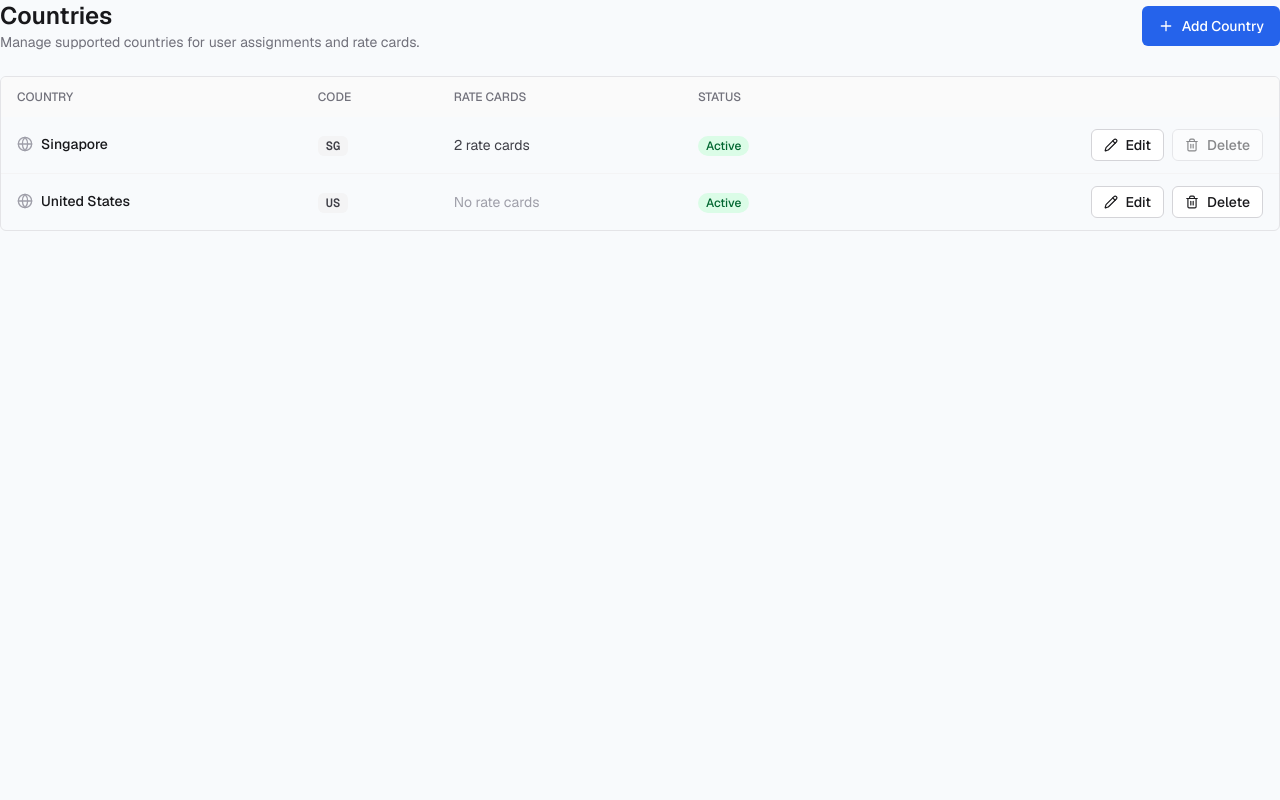
Scenario: CountriesTable › opens the Edit modal pre-filled for the clicked row
Check: the text "Singapore" is shown, box [17,134,108,154]
Click the button "Edit" in the row of "United States".
click(1127, 202)  # box [1091,186,1164,218]
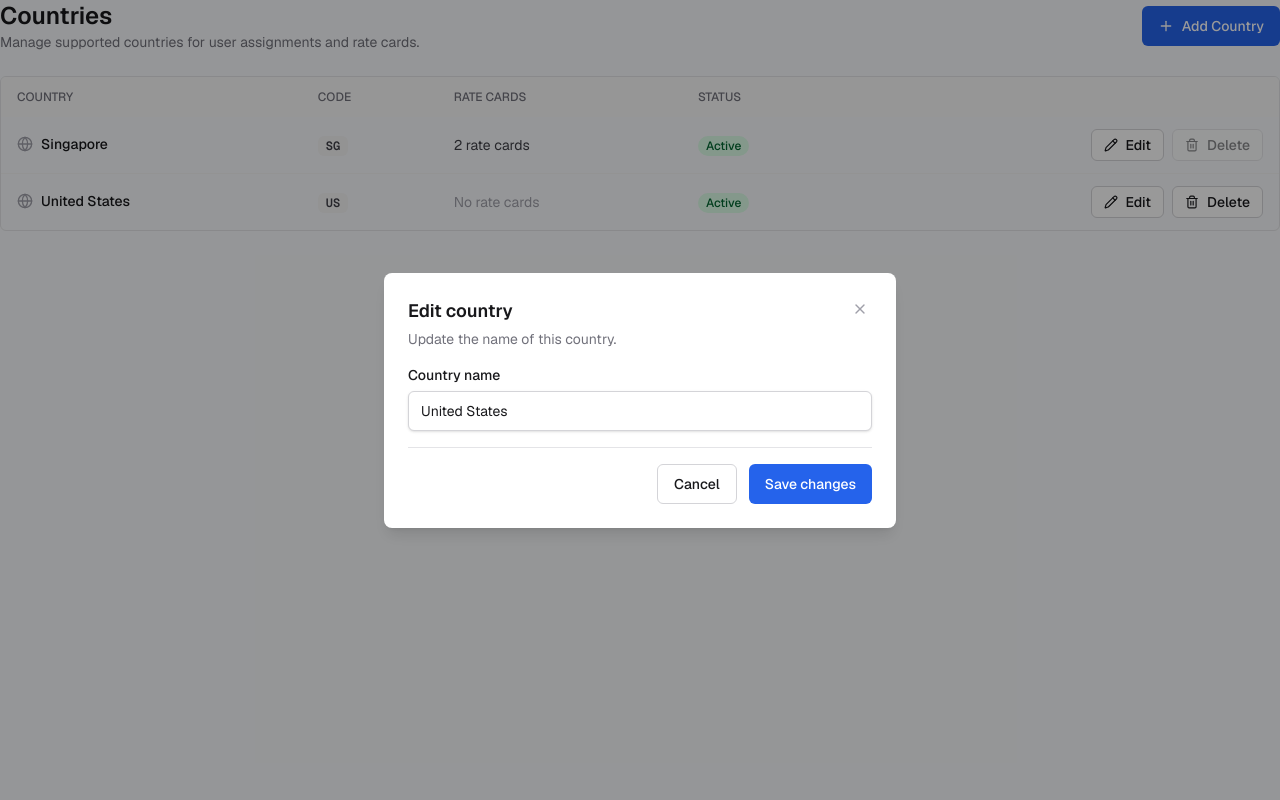
Check: the heading "Edit country" is shown, box [408,298,513,322]
Check: the field labelled "Country name" holds "United States", box [408,390,872,430]
